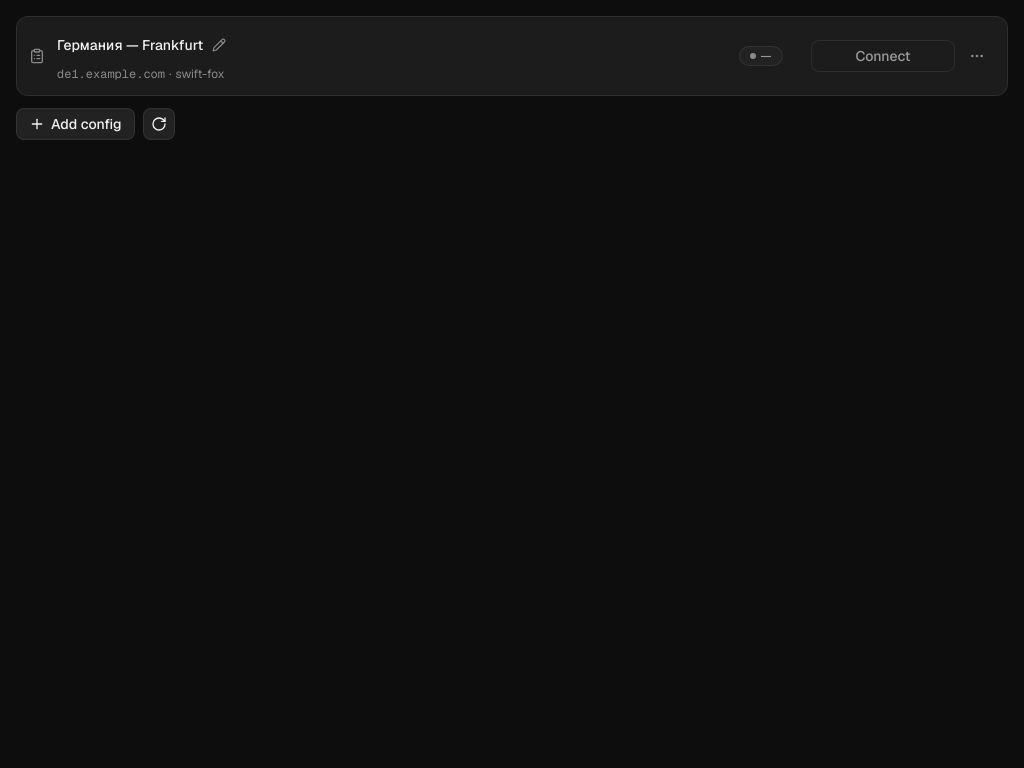
Test: ConnectionPanel (production integration) › deleting the last config returns the list to empty-no-configs
Check: the text "Германия — Frankfurt" is shown, box x1=57 y1=34 x2=203 y2=56
# Open the overflow menu and click «Удалить».
Step 1. Click the button named "Configuration actions" → point(977, 56), box x1=959 y1=38 x2=995 y2=74
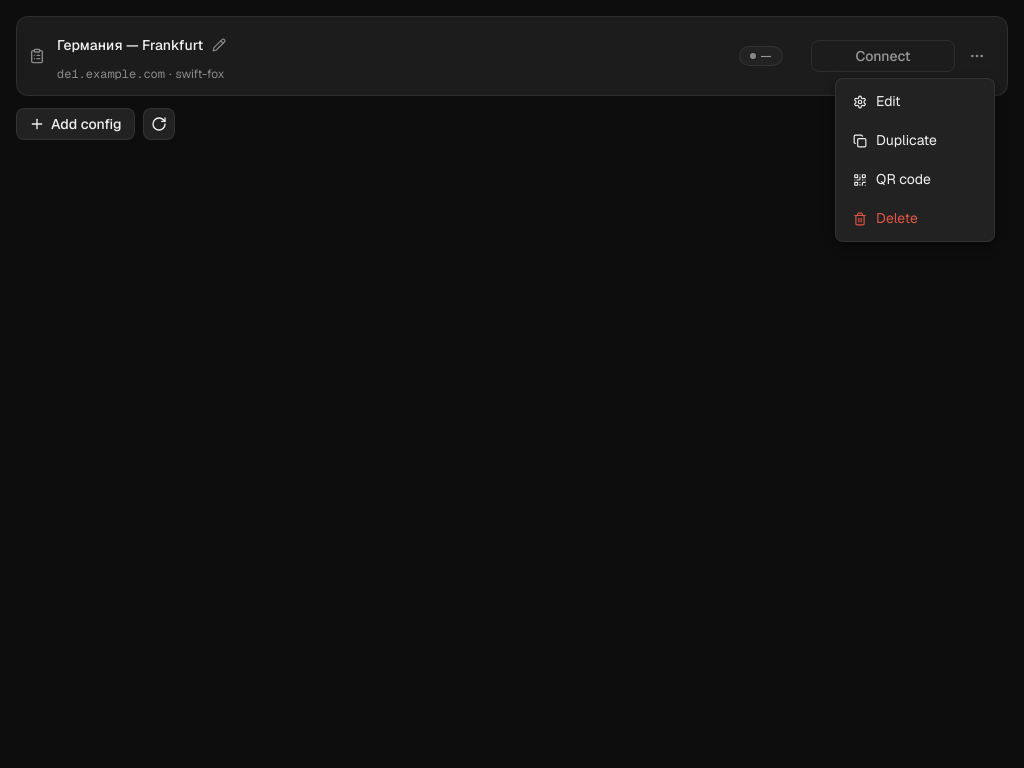
Step 2. Click the menu item "Delete" → point(915, 218), box x1=840 y1=200 x2=990 y2=237
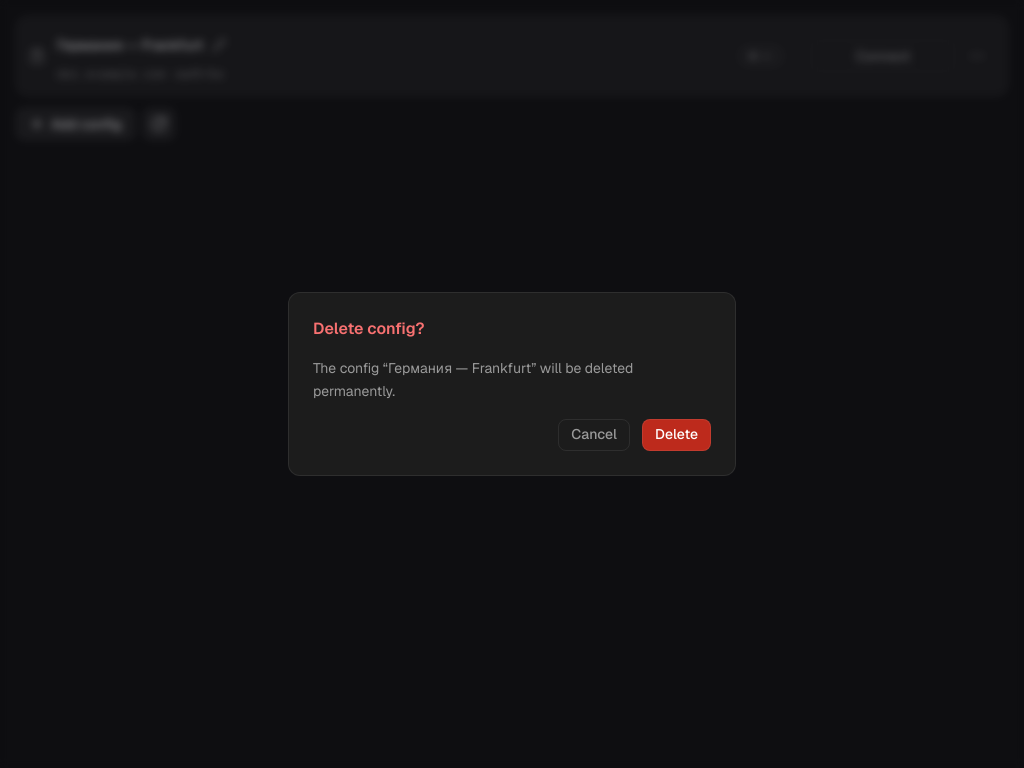
# The danger ConfirmDialog opens — confirm it.
Step 3. Click the button "Delete" → point(676, 435), box x1=642 y1=419 x2=711 y2=451
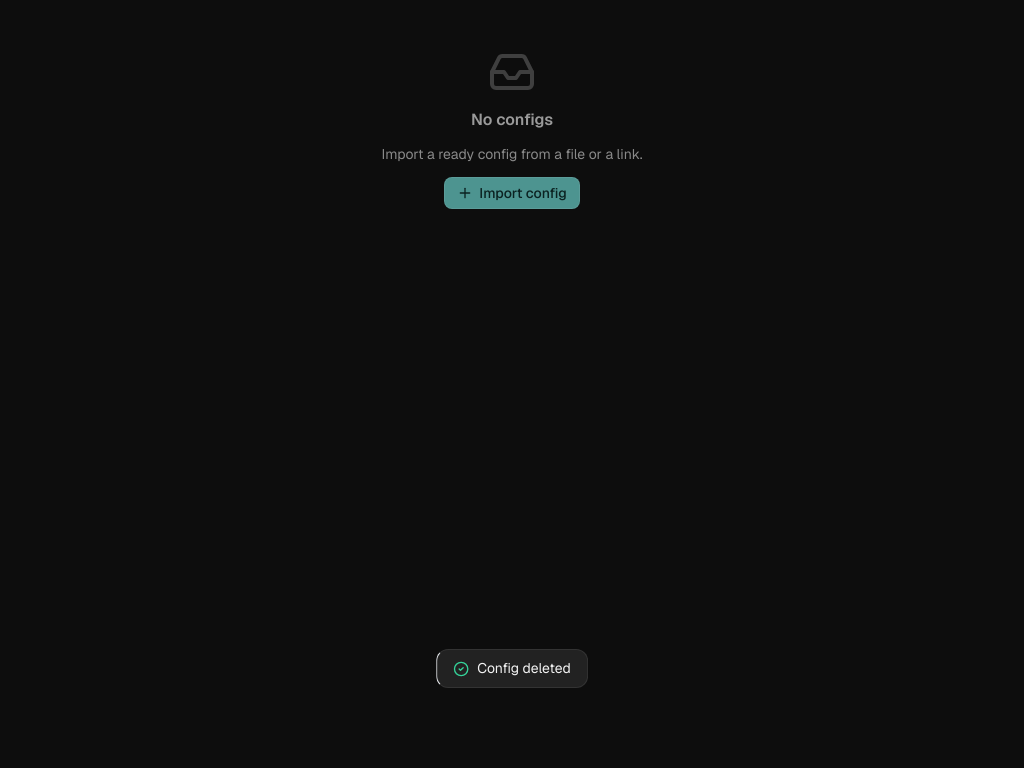
Check: the element with test id "empty-no-configs" is shown, box x1=381 y1=48 x2=643 y2=209
Check: the heading "No configs" is shown, box x1=471 y1=108 x2=553 y2=132
